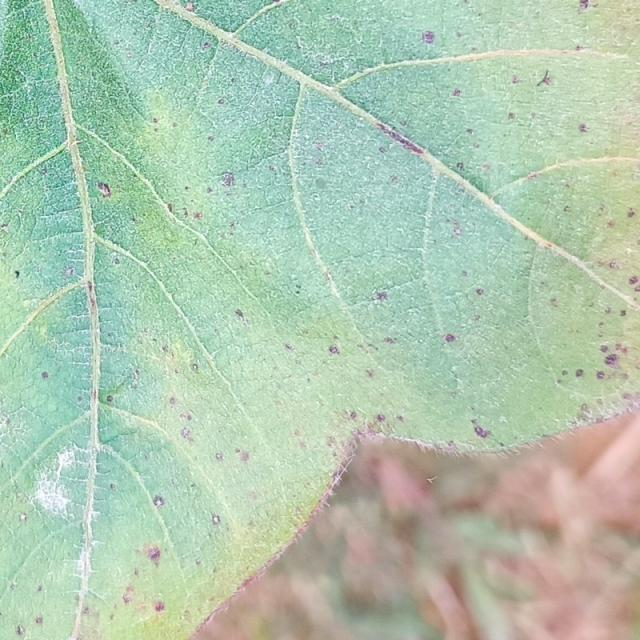Bacterial_Blight: (331, 150, 416, 228), (118, 569, 170, 624), (99, 395, 149, 445), (555, 351, 620, 389), (569, 394, 634, 431), (196, 170, 249, 210), (323, 448, 359, 497), (378, 121, 425, 154), (33, 478, 70, 519), (74, 540, 100, 582), (504, 68, 554, 89), (595, 343, 628, 371), (460, 170, 492, 198), (173, 201, 208, 224), (101, 379, 130, 405), (226, 301, 255, 325), (436, 325, 460, 353), (77, 605, 99, 635), (139, 543, 163, 570), (56, 449, 76, 471), (471, 419, 492, 439), (87, 282, 98, 318), (323, 13, 350, 26), (83, 586, 106, 601), (446, 218, 464, 236), (577, 0, 597, 13), (97, 182, 112, 198), (235, 448, 250, 463), (275, 67, 286, 87), (221, 172, 235, 187), (371, 291, 388, 303), (123, 586, 135, 603), (263, 71, 276, 86), (422, 30, 435, 44), (314, 177, 327, 190), (181, 427, 193, 441), (153, 495, 165, 508), (320, 56, 334, 66), (16, 624, 25, 637), (64, 267, 75, 277), (180, 412, 191, 422), (329, 345, 340, 355), (185, 2, 195, 12), (578, 124, 589, 133), (627, 276, 638, 285), (1, 223, 10, 233), (511, 75, 521, 84), (315, 142, 325, 151), (609, 260, 619, 269), (228, 31, 237, 41), (365, 369, 374, 378), (627, 209, 636, 218), (349, 411, 358, 420), (203, 41, 212, 50), (575, 369, 584, 378), (19, 513, 27, 523), (626, 247, 636, 255), (452, 89, 462, 97), (599, 345, 609, 353), (384, 337, 395, 344), (499, 416, 508, 424), (39, 168, 48, 176), (390, 176, 399, 184), (212, 515, 220, 524), (550, 298, 558, 307), (215, 452, 223, 461), (378, 146, 387, 154), (35, 616, 43, 625), (169, 396, 177, 405), (82, 606, 90, 615), (377, 414, 386, 422), (285, 343, 293, 351), (456, 162, 464, 170), (191, 363, 199, 371), (396, 415, 404, 423), (607, 220, 615, 228), (41, 371, 49, 379), (106, 395, 114, 403), (476, 288, 484, 296), (619, 309, 627, 317), (295, 284, 302, 293), (217, 98, 226, 105), (167, 203, 173, 213), (545, 242, 553, 249), (508, 112, 515, 120), (195, 558, 202, 566), (313, 193, 320, 201), (14, 270, 20, 279), (575, 45, 584, 51), (456, 31, 463, 38), (152, 117, 159, 124), (466, 128, 473, 135), (207, 135, 214, 142), (269, 165, 276, 172), (37, 585, 43, 593), (561, 370, 569, 376), (110, 483, 116, 490), (114, 257, 120, 264), (77, 395, 83, 402)
Cotton: (0, 0, 639, 639)
